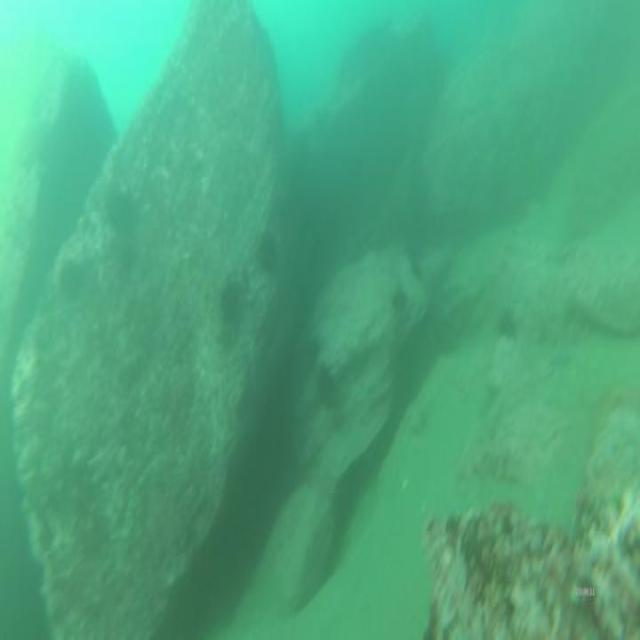echinus: (214, 270, 247, 327), (253, 228, 279, 278), (313, 359, 338, 406)
